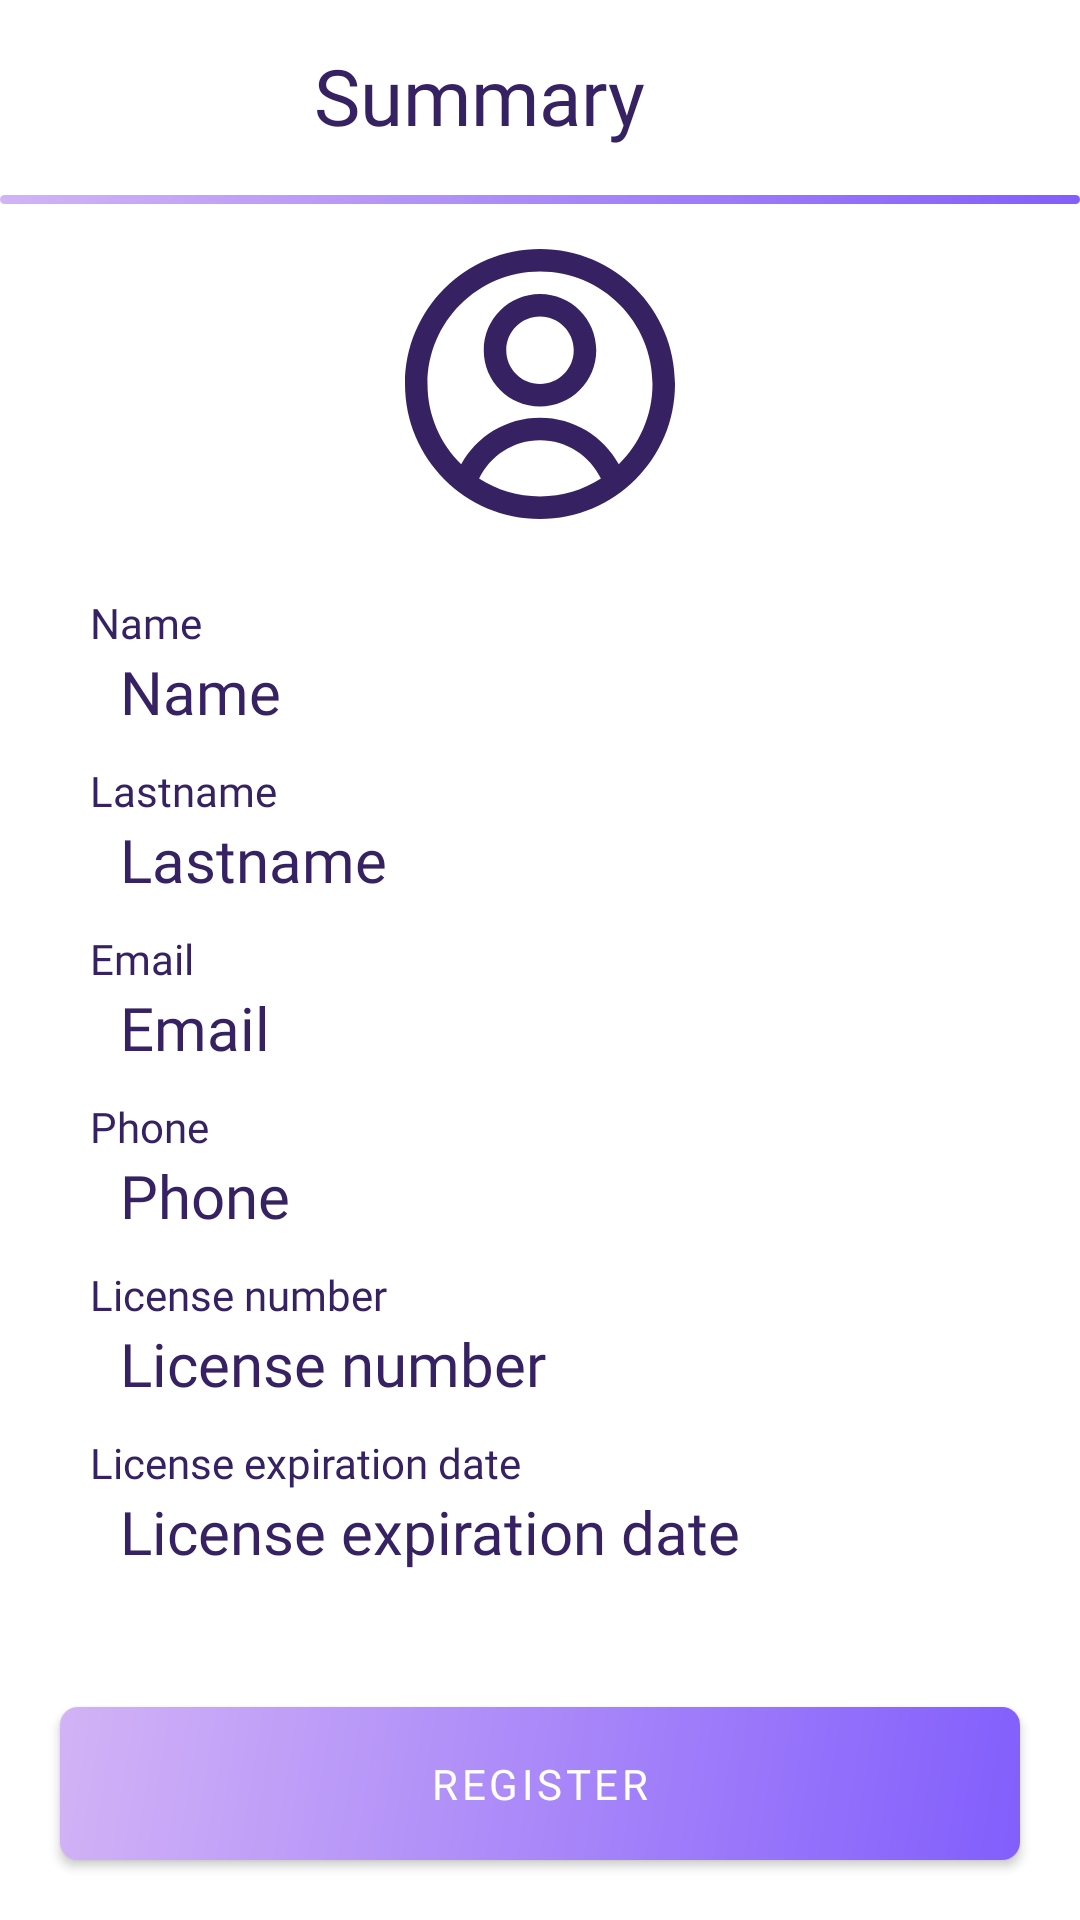

Icons on this 1080 x 1920 Android screen, each with its box as bbox=(x1, y1, x2, y2):
User Icon: bbox=(405, 249, 675, 519)
